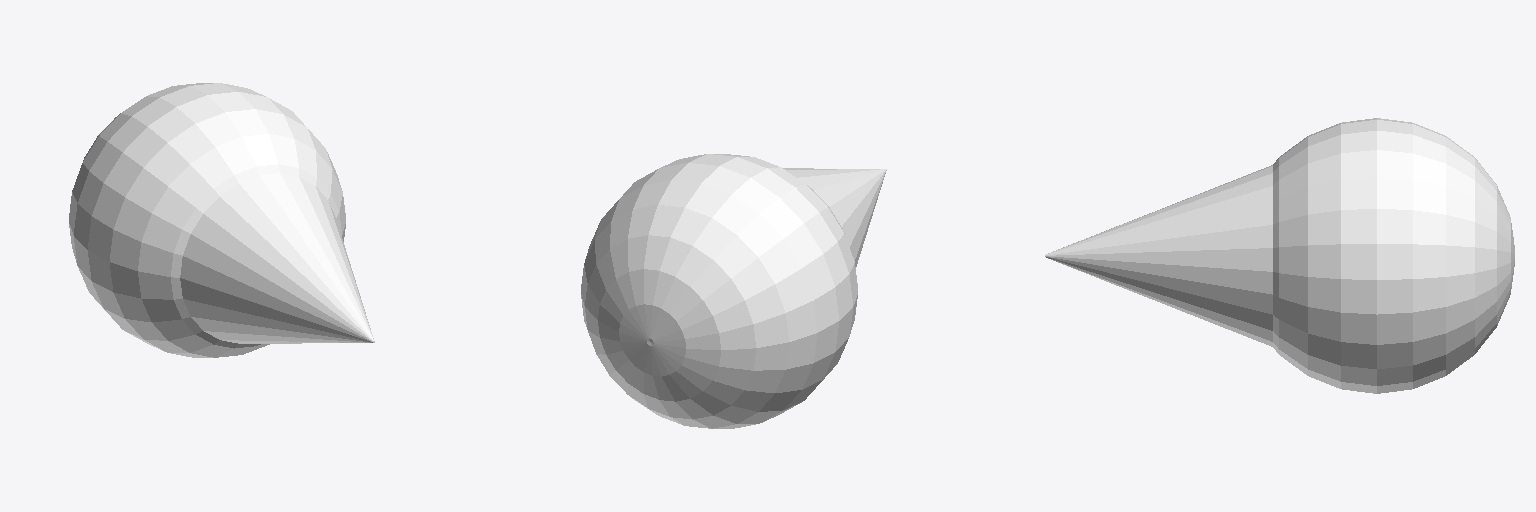
File: flame_centered.obj
3 renders of one model, left to right at view 1: azimuth 30°, elevation 25°; view 2: azimuth 150°, elevation 25°; view 3: azimuth 270°, elevation 25°, orthographic.
Parts seen in each view (by area): view 1: sphere_full_0, cylinder_cone_1; view 2: sphere_full_0, cylinder_cone_1; view 3: sphere_full_0, cylinder_cone_1.
Part boxes in pixels (left/top/right/bottom): sphere_full_0: left=69, top=83, right=345, bottom=357; cylinder_cone_1: left=180, top=173, right=374, bottom=343; sphere_full_0: left=581, top=154, right=857, bottom=428; cylinder_cone_1: left=783, top=168, right=886, bottom=266; sphere_full_0: left=1273, top=118, right=1514, bottom=393; cylinder_cone_1: left=1045, top=165, right=1272, bottom=346.
Size of the model in its own units: 1 by 1 by 1.7.